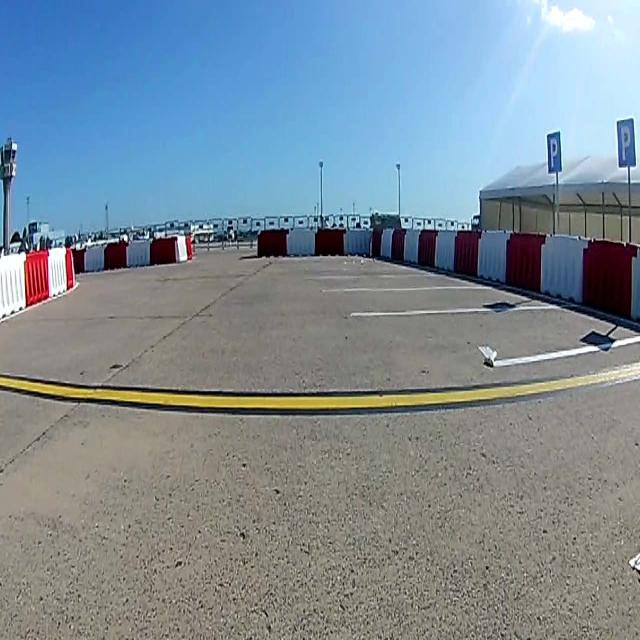park: (616, 118, 634, 169), (546, 131, 562, 172)
